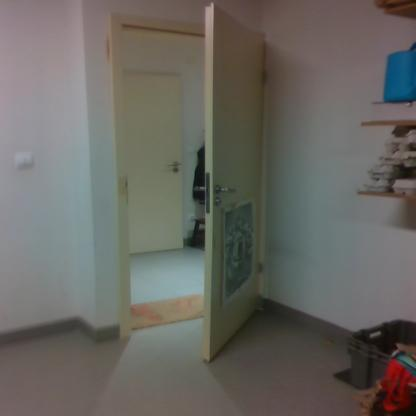semi: (105, 2, 268, 362)
